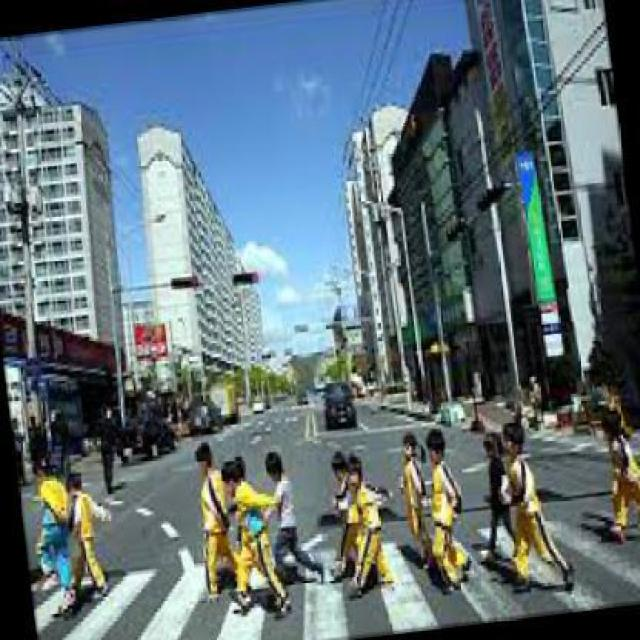Person: (492, 411, 576, 600), (220, 457, 286, 620), (333, 448, 402, 595), (416, 425, 475, 589), (255, 439, 319, 587), (51, 468, 117, 600), (184, 434, 238, 595), (26, 452, 76, 597), (592, 398, 638, 550), (392, 427, 434, 567)
